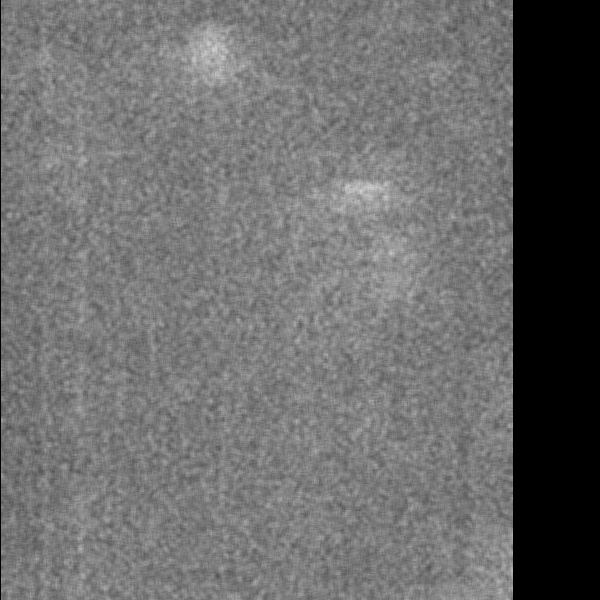spark: (163, 19, 238, 129), (321, 173, 378, 204)
